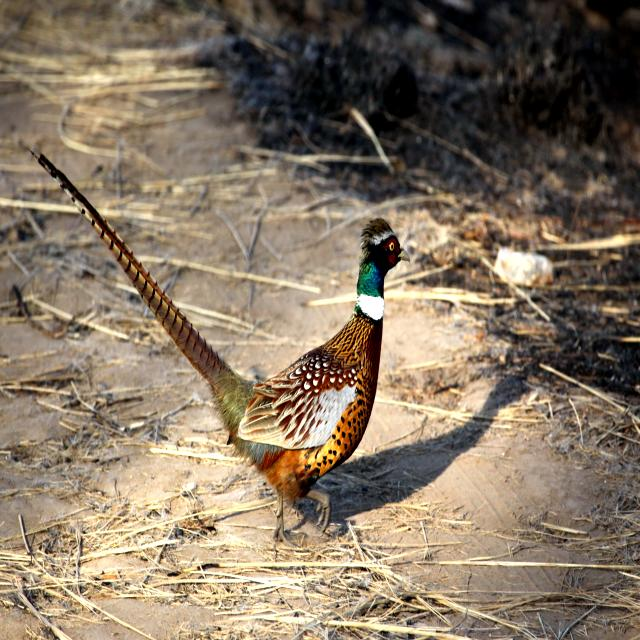Phasianus Colchicus: (26, 146, 238, 393)
